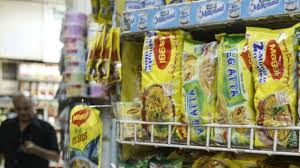maggie: (248, 31, 300, 149), (143, 33, 184, 142)
